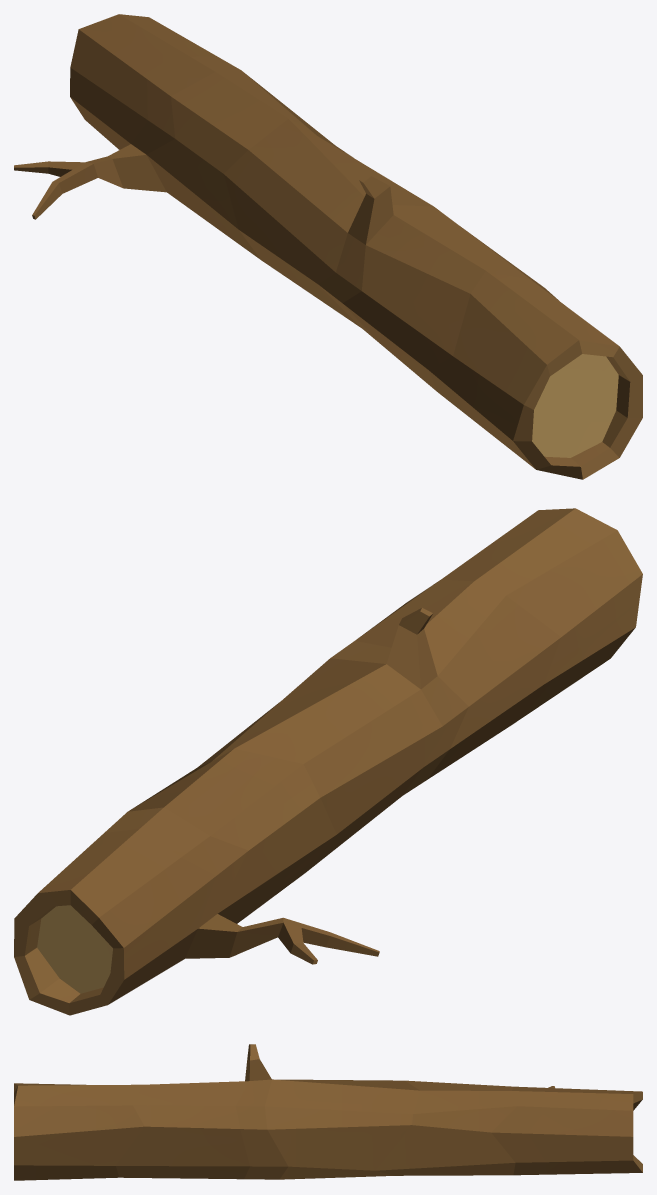
File: log_1.glb
The picture shows the model from 3 angles, top to bottom: view 1: azimuth 30°, elevation 25°; view 2: azimuth 150°, elevation 25°; view 3: azimuth 270°, elevation 25°; orthographic projection. The views are drawn at different scales.
Parts seen in each view (by area): view 1: log_1; view 2: log_1; view 3: log_1.
Boxes of the visible parts, x1,y1,x2,y2 form: log_1: (14, 14, 642, 479); log_1: (14, 508, 642, 1015); log_1: (14, 1044, 642, 1180).
Bounding box in the file's own units: 0.3231 × 0.2302 × 1.08.
Materials: 1 (1 with a texture image).
